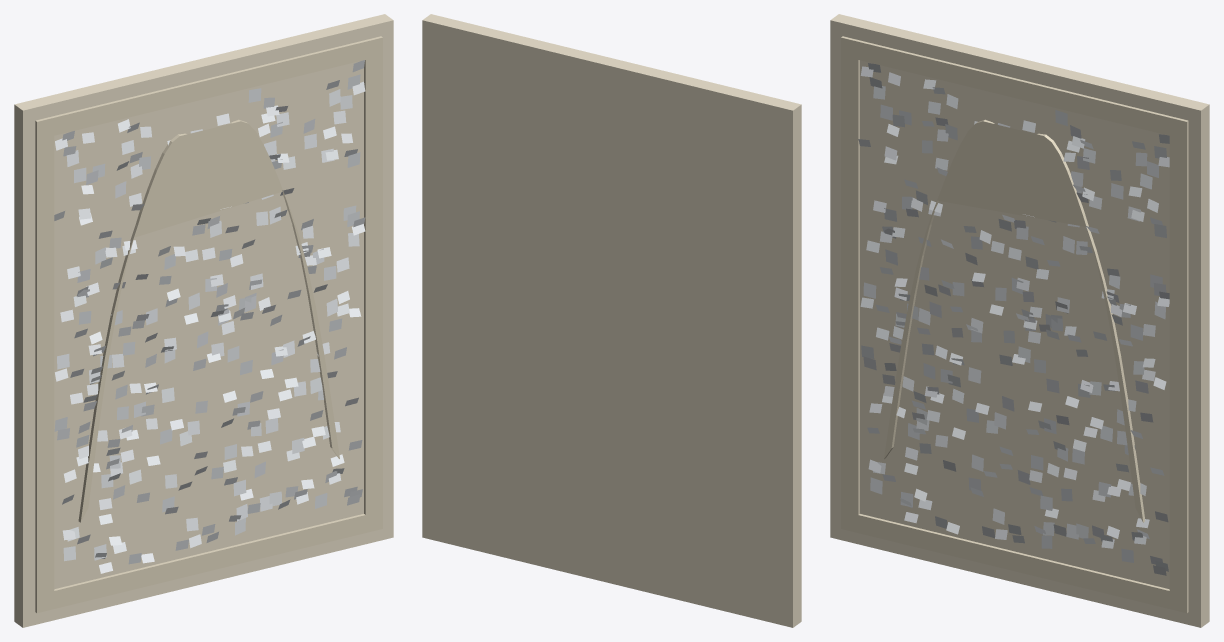
The model's file is kit_mirror_panel.glb.
3 renders of one model, left to right at view 1: azimuth 30°, elevation 25°; view 2: azimuth 150°, elevation 25°; view 3: azimuth 330°, elevation 25°, orthographic.
Parts seen in each view (by area): view 1: kit_mirror_panel; view 2: kit_mirror_panel; view 3: kit_mirror_panel.
Boxes of the visible parts, bbox=[...] form: kit_mirror_panel: bbox=[14, 14, 393, 627]; kit_mirror_panel: bbox=[422, 14, 801, 627]; kit_mirror_panel: bbox=[830, 14, 1209, 627].
Bounding box in the file's own units: 3 × 4 × 0.1519.
